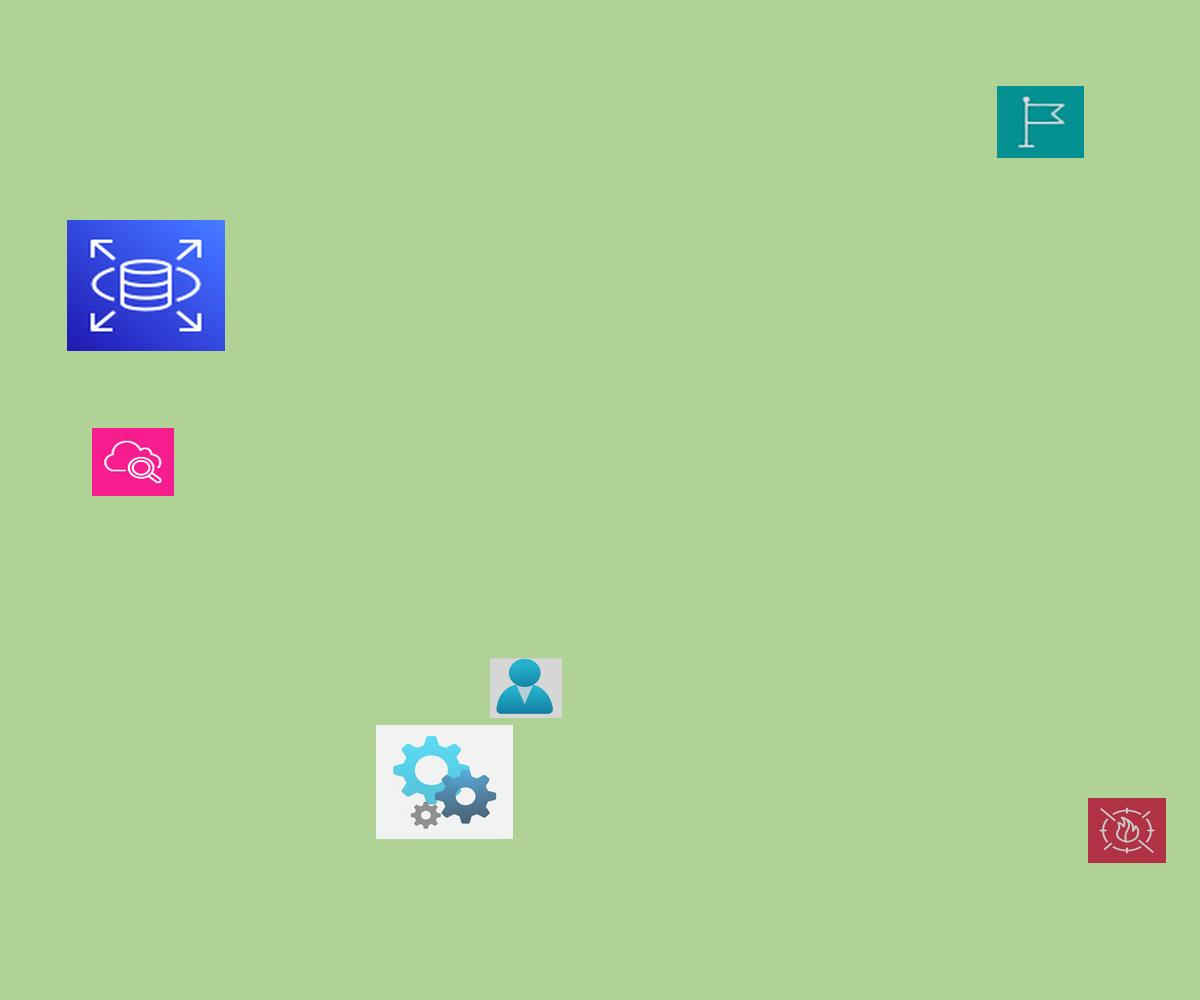AWS-CloudWatch: (92, 428, 174, 496)
AWS-RDS: (67, 220, 225, 351)
AWS-Region: (997, 86, 1084, 158)
AWS-WAF: (1088, 798, 1166, 863)
Azure_api: (376, 725, 513, 839)
Azure_users: (490, 658, 562, 718)
